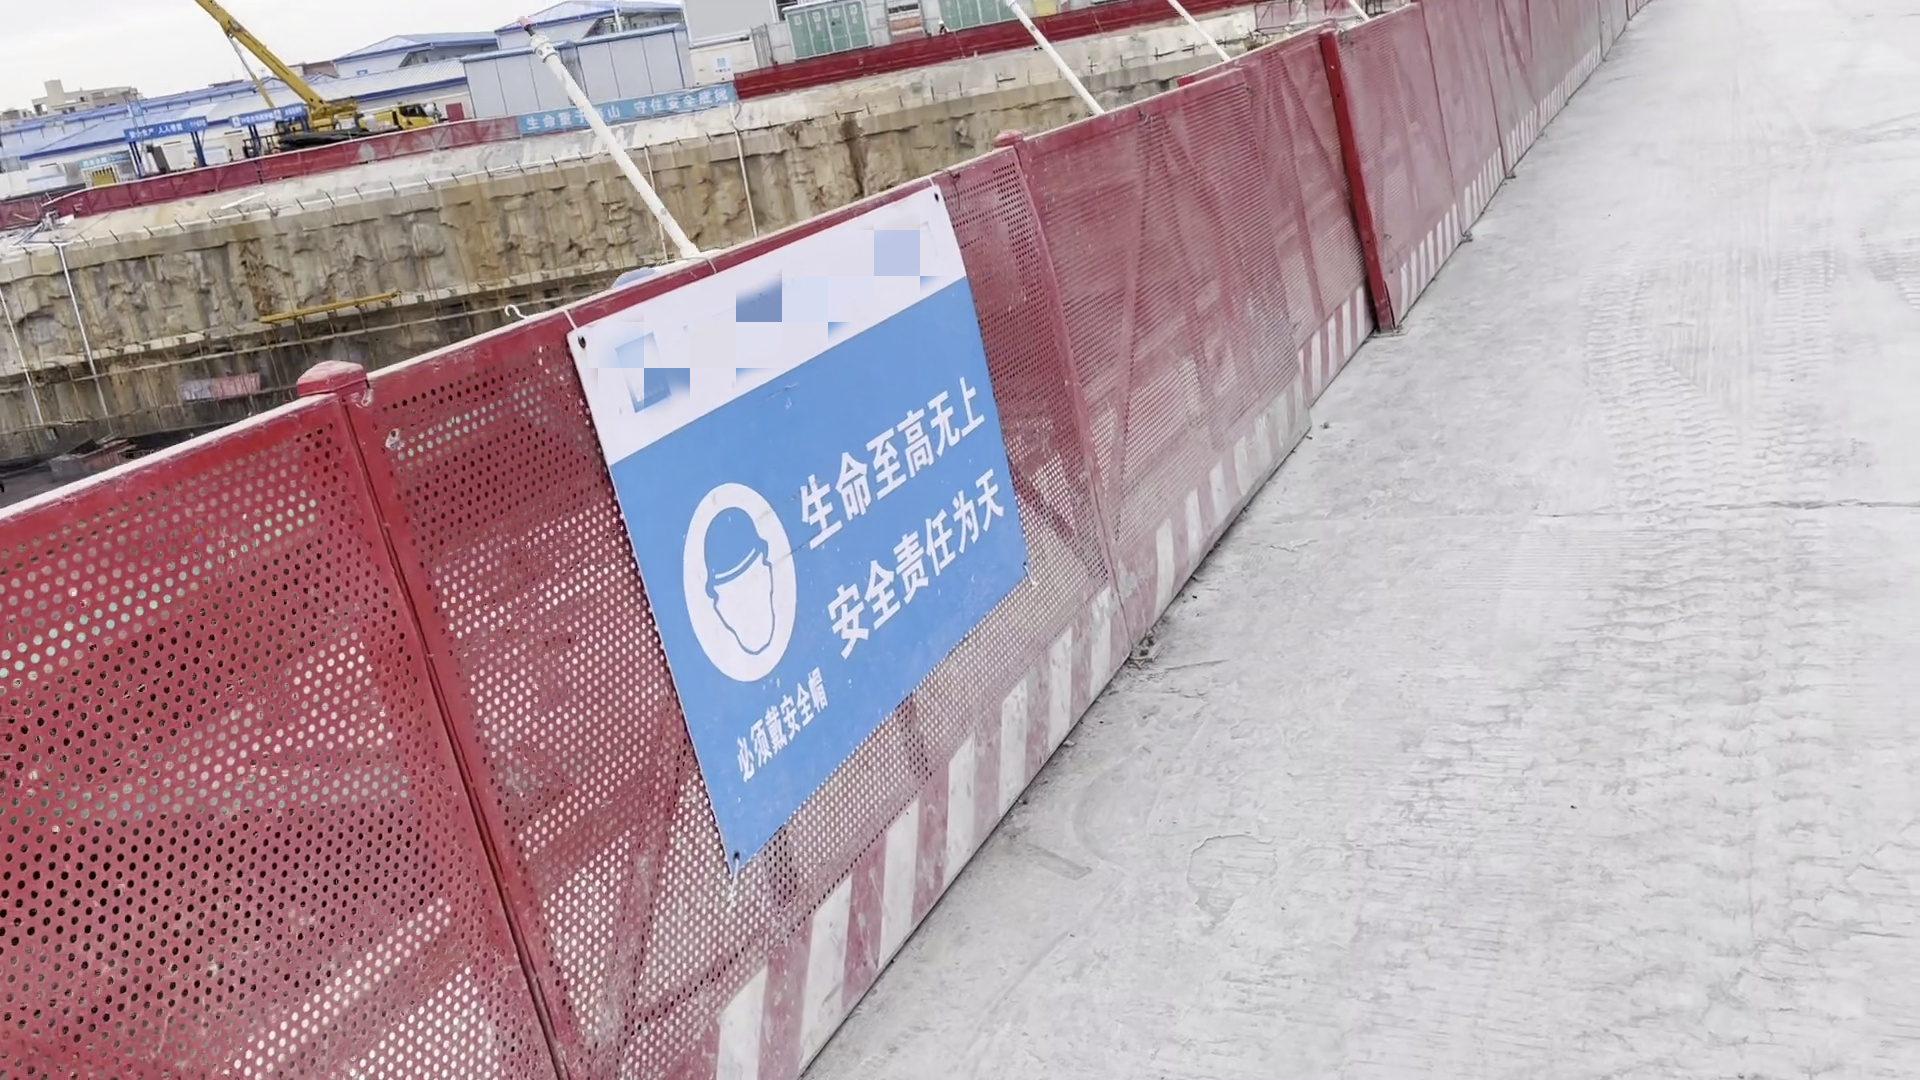fence: (7, 1, 1646, 1075)
slogan: (800, 393, 1000, 661), (522, 80, 735, 131)
